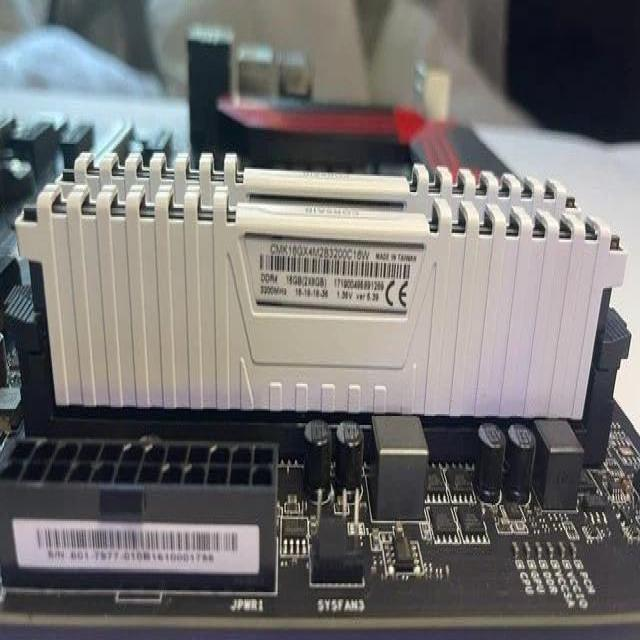RAM: (15, 180, 628, 420)
